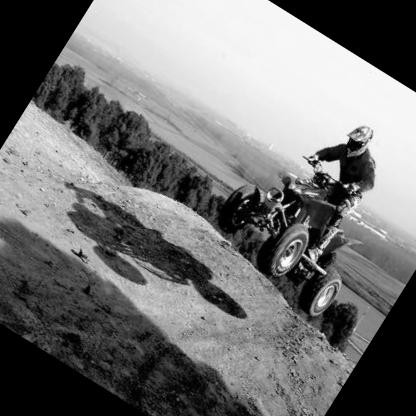moto: (196, 131, 412, 342)
